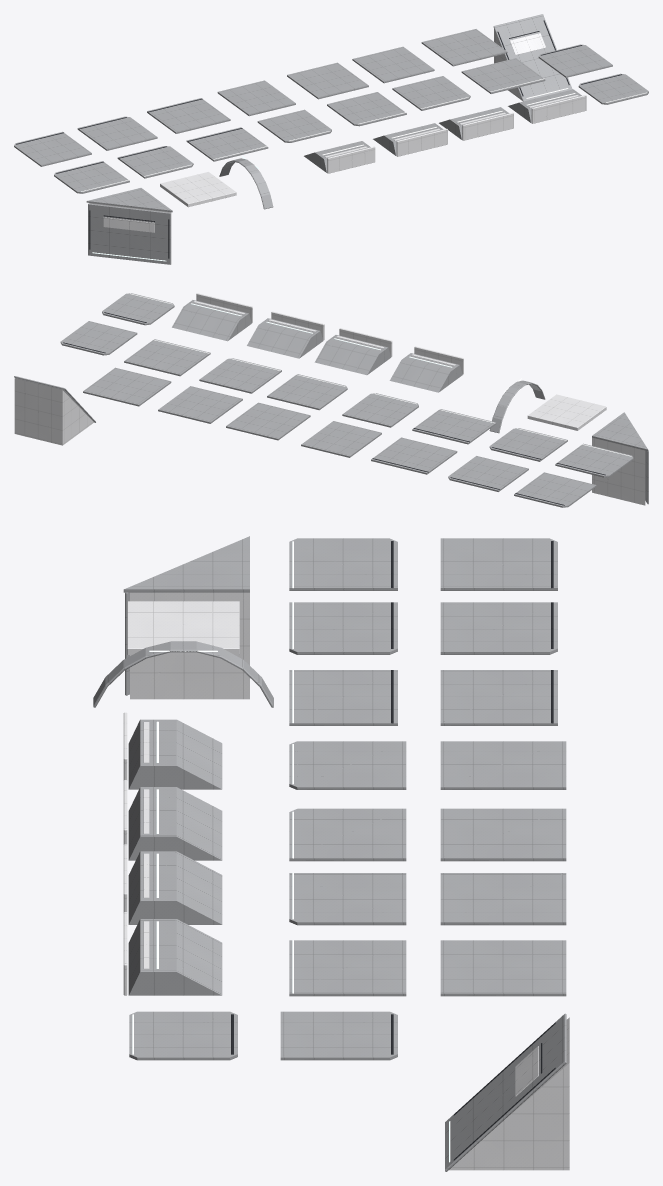
Rendered from R4H_HullKit.glb.
The picture shows the model from 3 angles, top to bottom: view 1: azimuth 30°, elevation 25°; view 2: azimuth 150°, elevation 25°; view 3: azimuth 270°, elevation 25°; orthographic projection. The views are drawn at different scales.
Parts seen in each view (by area): view 1: cheek, ramp, plate_15, plate_07, plate_11, plate_14, plate_13, nose_3, gasket, plate_03, plate_10, plate_06 (+12 smaller); view 2: ramp, cheek, nose_3, nose_1, nose_2, nose_0, plate_15, plate_07, plate_11, plate_14, plate_13, gasket (+12 smaller); view 3: ramp, cheek, plate_15, nose_3, plate_13, plate_14, plate_07, plate_11, nose_2, plate_05, nose_0, plate_10 (+12 smaller).
Boxes of the visible parts, box(x1,y1,x2,y2) form: cheek: box(86, 188, 172, 264); ramp: box(493, 14, 572, 101); plate_15: box(421, 29, 507, 66); plate_07: box(461, 58, 545, 93); plate_11: box(147, 98, 230, 133); plate_14: box(352, 46, 434, 83); plate_13: box(287, 62, 368, 99); nose_3: box(508, 89, 586, 123); gasket: box(160, 172, 236, 207); plate_03: box(186, 127, 268, 161); plate_10: box(77, 116, 157, 150); plate_06: box(392, 76, 470, 110); ramp: box(14, 376, 95, 445); cheek: box(592, 412, 648, 505); nose_3: box(172, 293, 252, 341); nose_1: box(314, 328, 392, 375); nose_2: box(247, 311, 324, 358); nose_0: box(389, 346, 463, 392); plate_15: box(83, 367, 171, 406); plate_07: box(124, 339, 210, 376); plate_11: box(371, 437, 457, 474); plate_14: box(158, 386, 242, 423); plate_13: box(226, 402, 310, 440); gasket: box(527, 394, 606, 430); ramp: box(445, 1013, 569, 1171); cheek: box(123, 536, 249, 699); plate_15: box(440, 940, 566, 996); nose_3: box(123, 912, 222, 995); plate_13: box(440, 808, 566, 861); plate_14: box(440, 873, 566, 925); plate_07: box(289, 940, 406, 996); plate_11: box(440, 670, 557, 725); nose_2: box(123, 844, 222, 924); plate_05: box(289, 808, 406, 861); nose_0: box(123, 712, 222, 789); plate_10: box(440, 602, 557, 654).
Size of the model in its own units: 5.41 by 0.6942 by 2.09.
4 materials, 3 textured.
